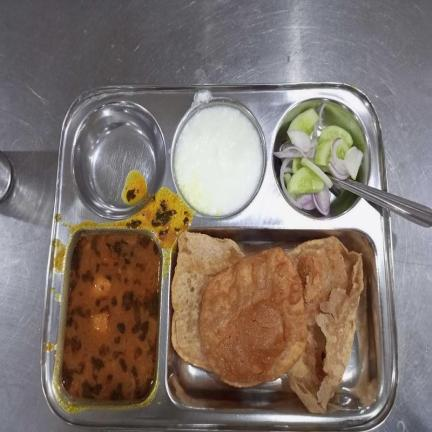Aalu Ki Sabji: (60, 233, 161, 401)
Dahi: (173, 107, 264, 218)
Plate: (40, 82, 397, 430)
Puri: (170, 232, 364, 414)
Salad: (275, 101, 364, 216)
